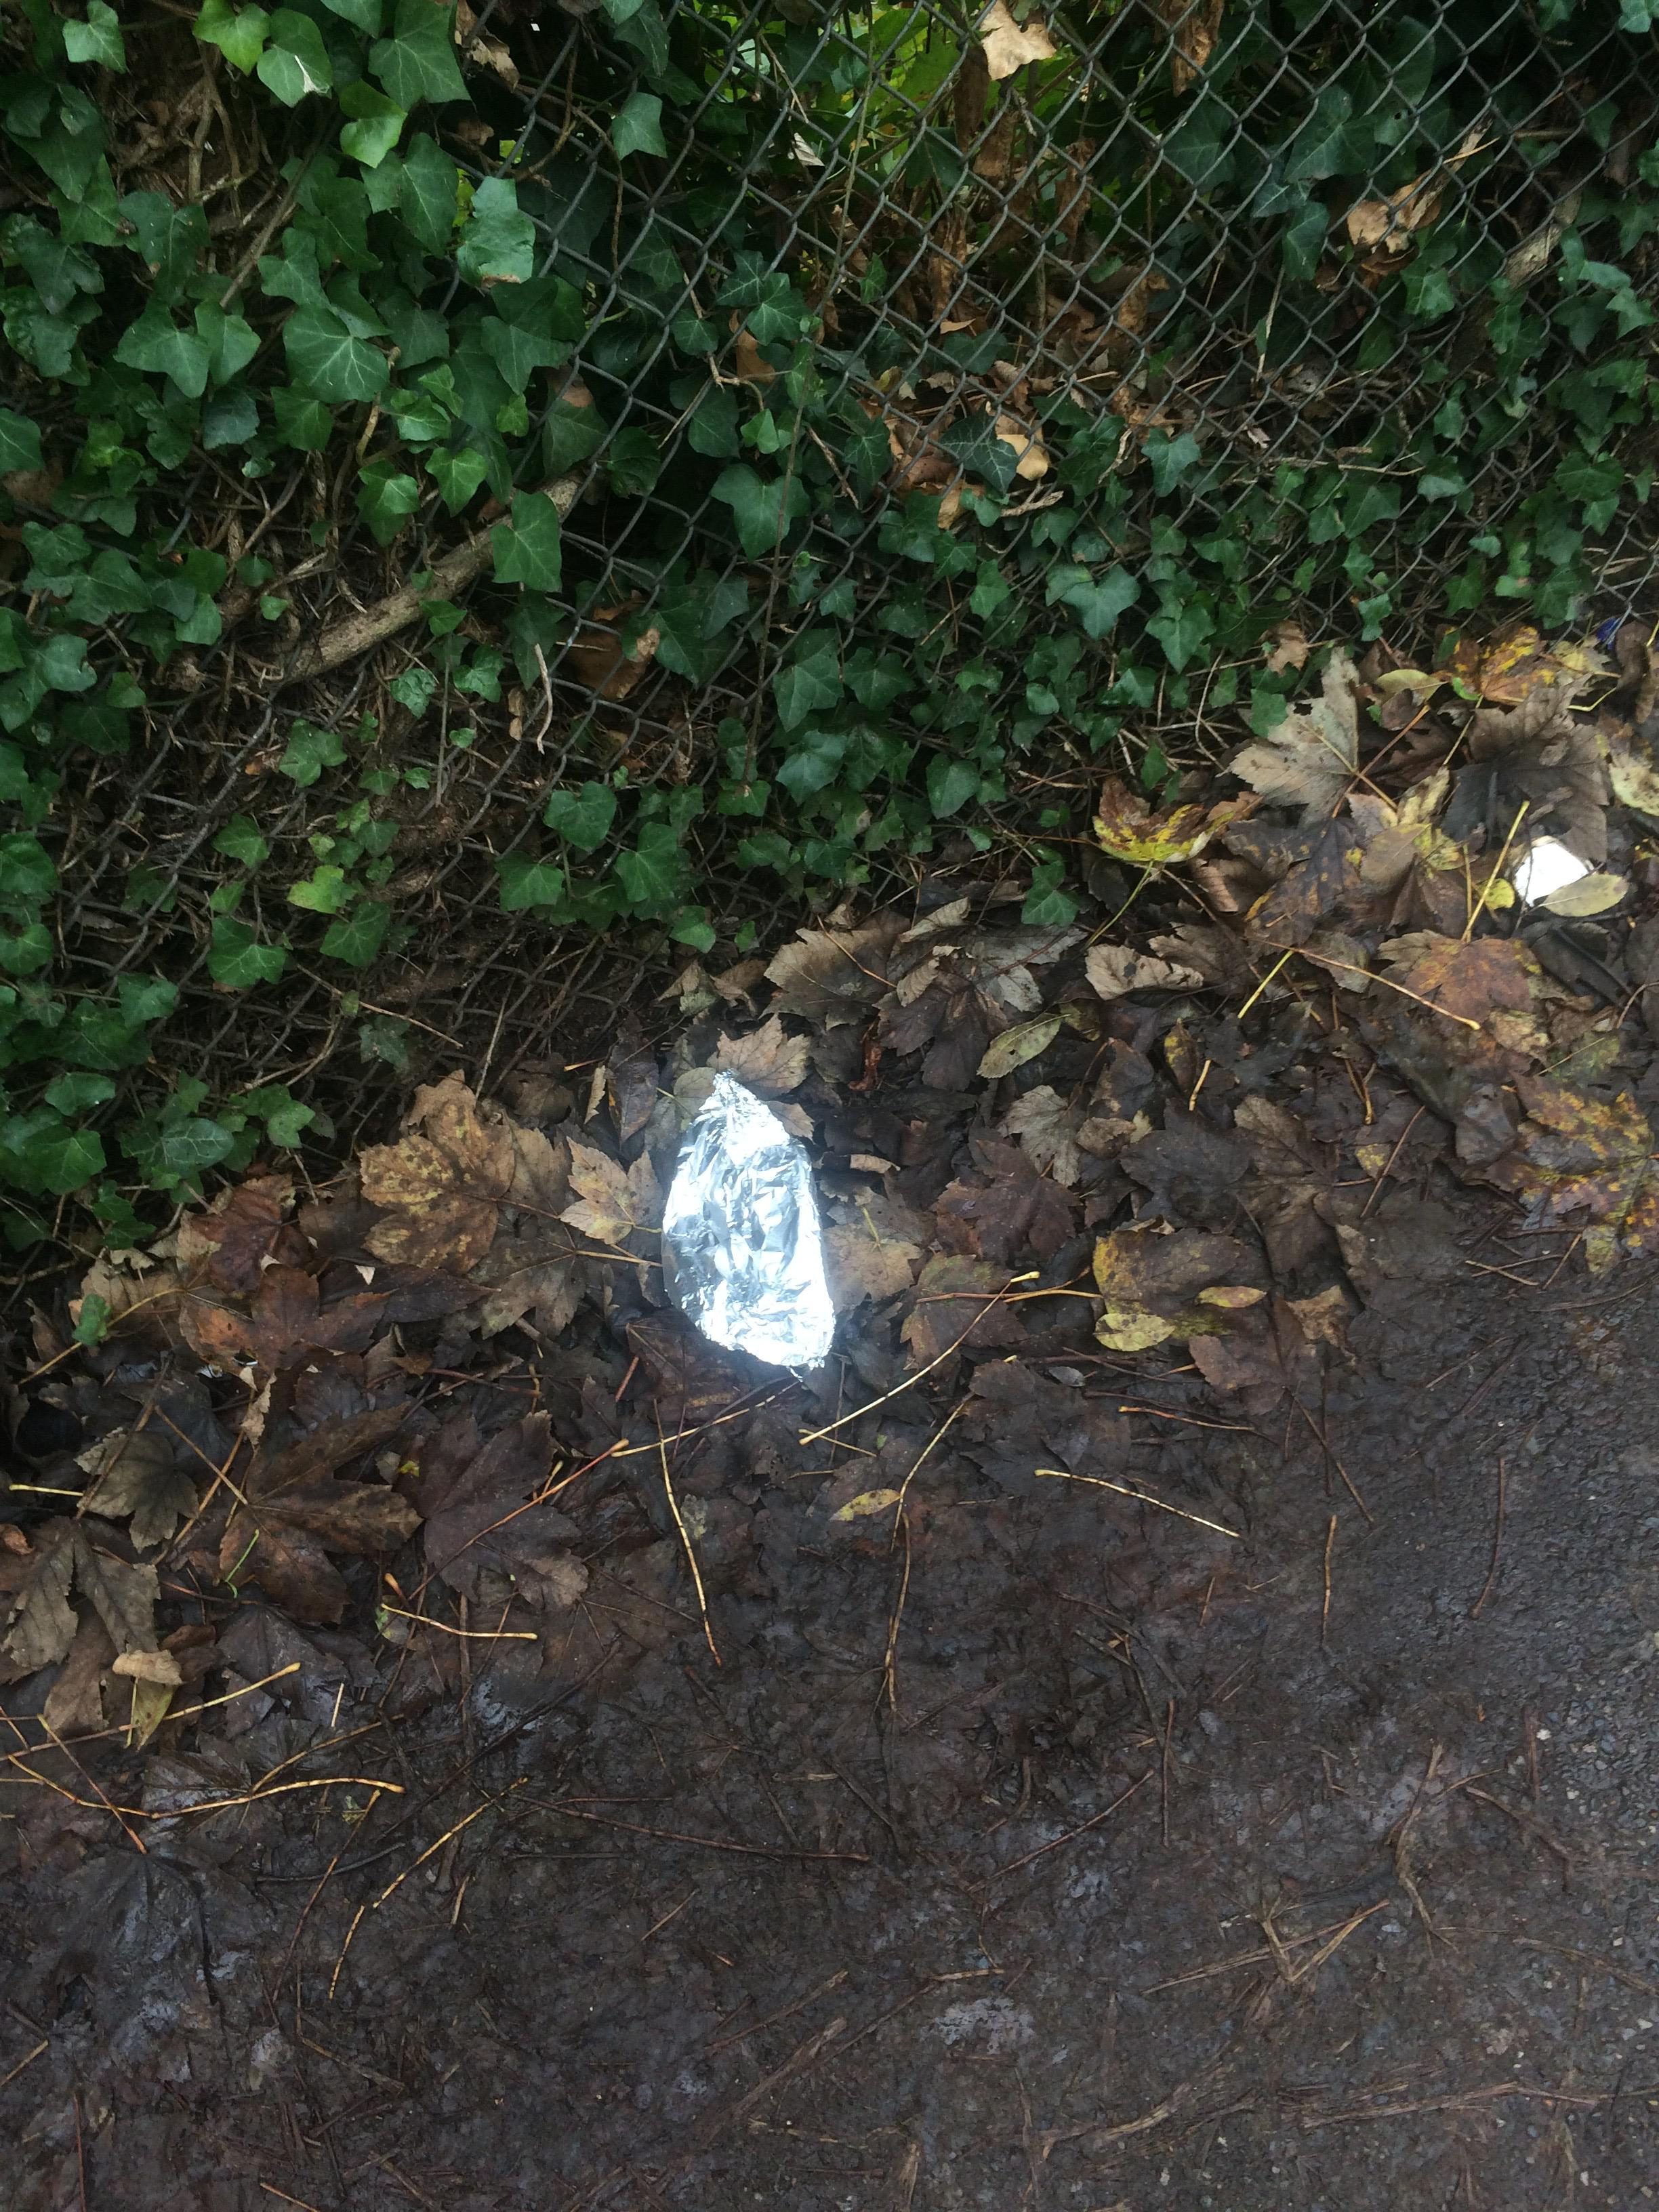Trash: (657, 1069, 833, 1369)
